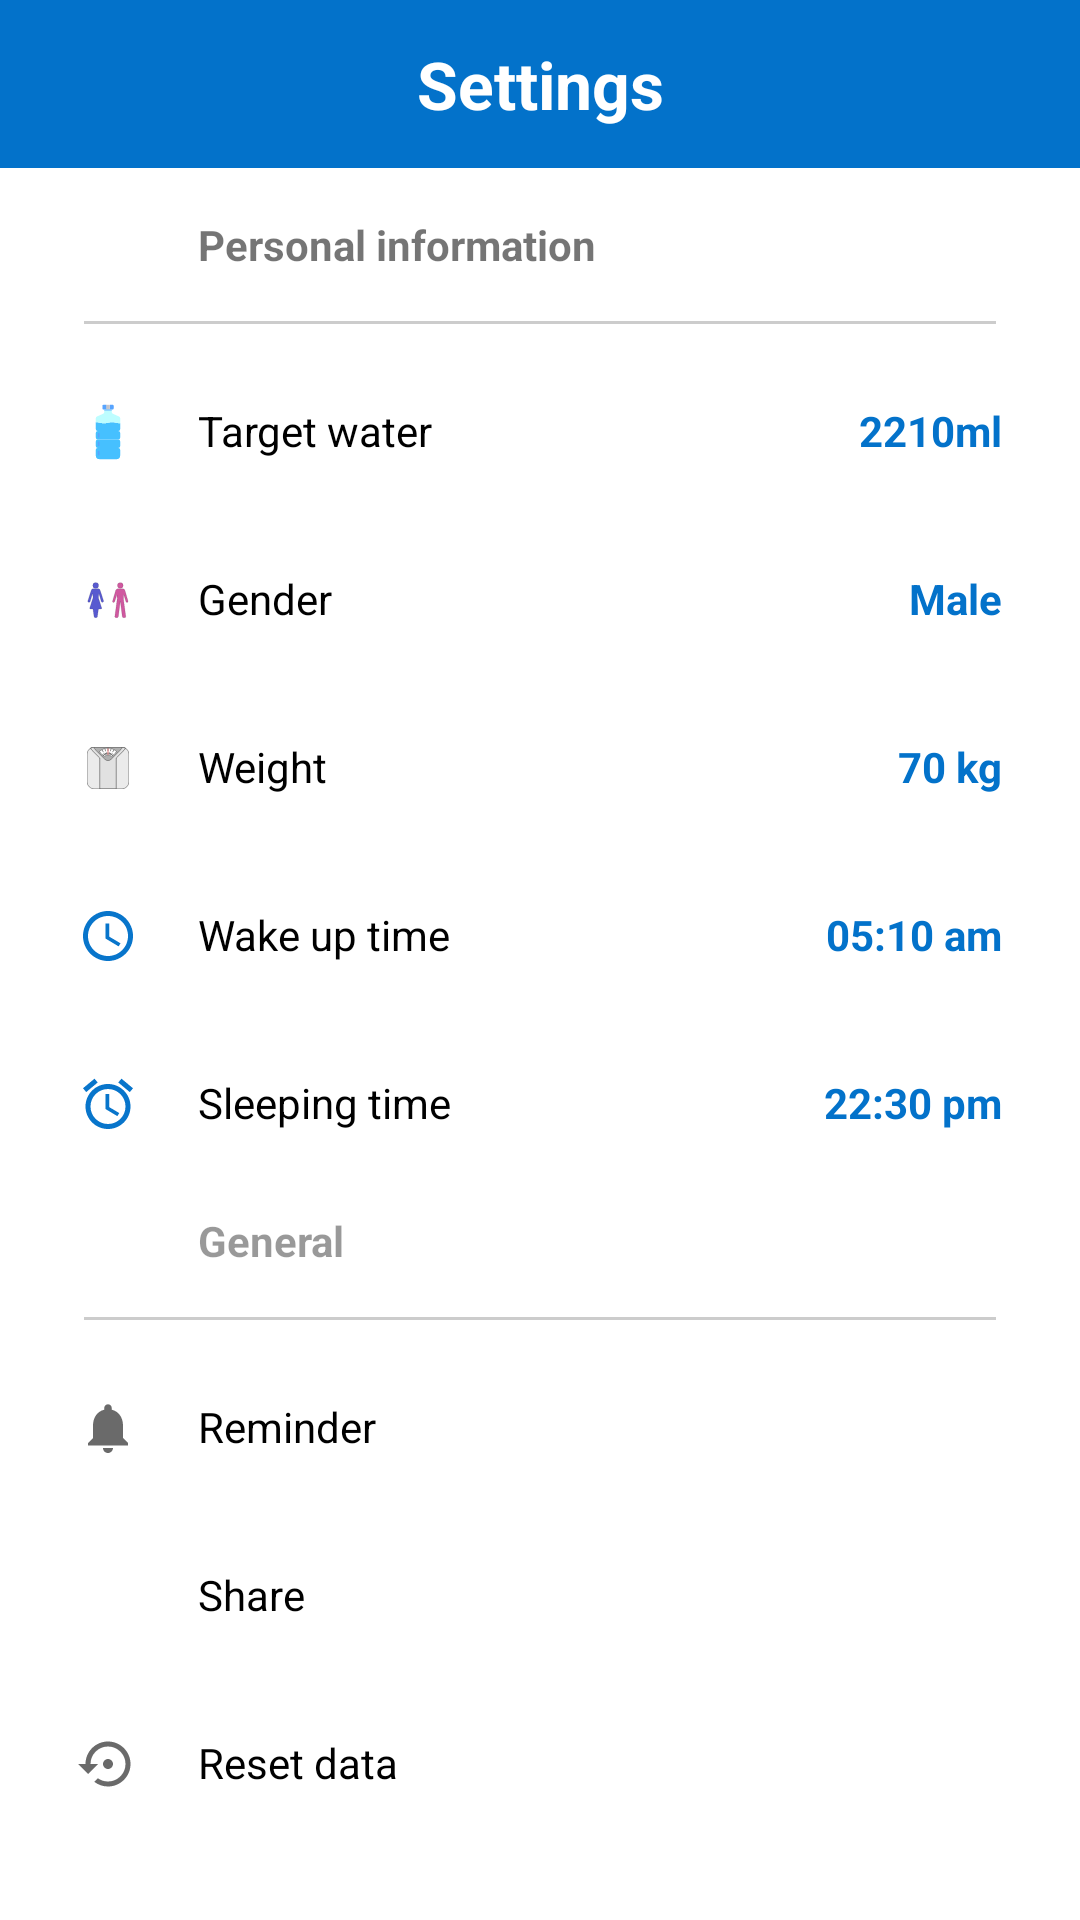

Locate icon controls on the screen. Image size 1080px×1920px, boxes as (x1, y1, x2, y2).
alarm: (83, 1078, 133, 1129)
drink bottle: (95, 404, 121, 460)
notification: (88, 1404, 128, 1453)
restore: (78, 1741, 131, 1787)
scale: (87, 747, 129, 789)
